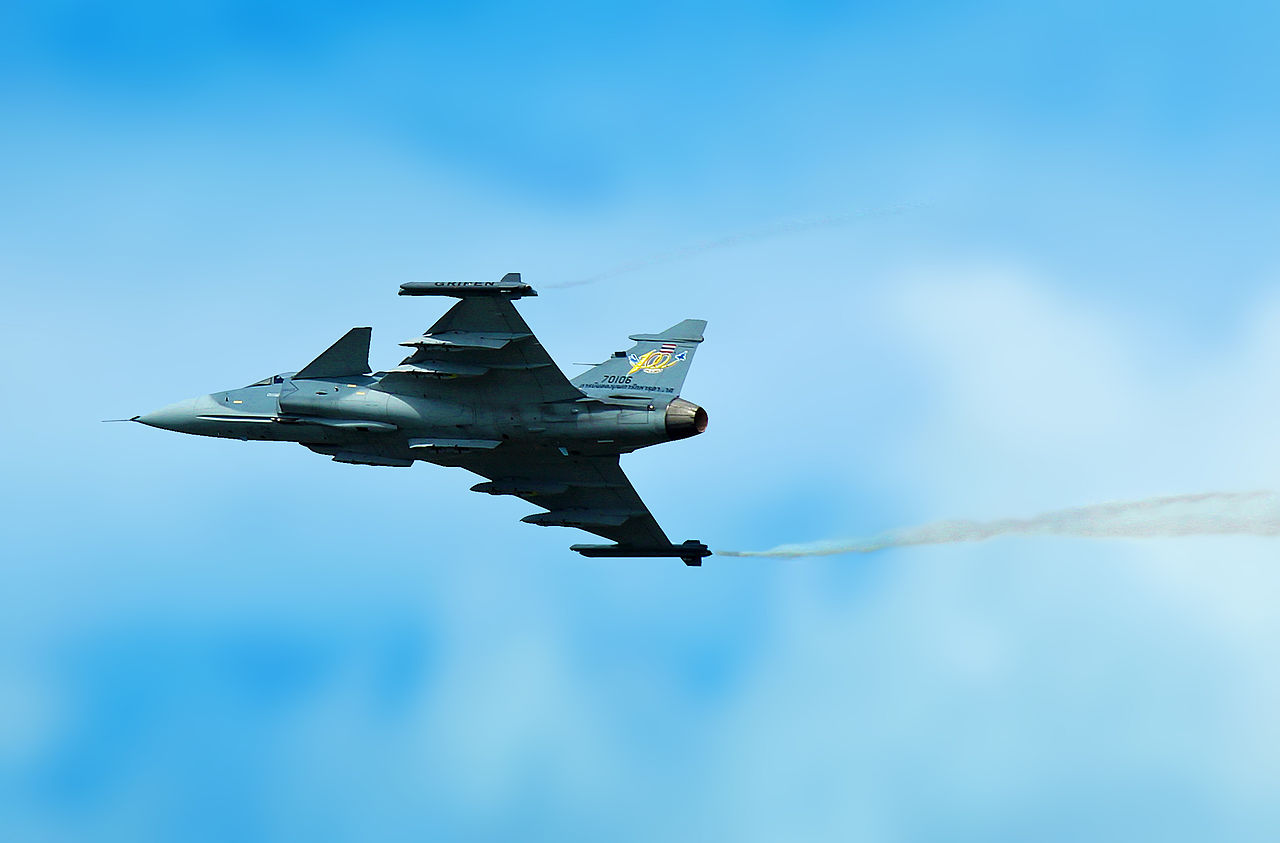JAS39: (102, 272, 713, 567)
